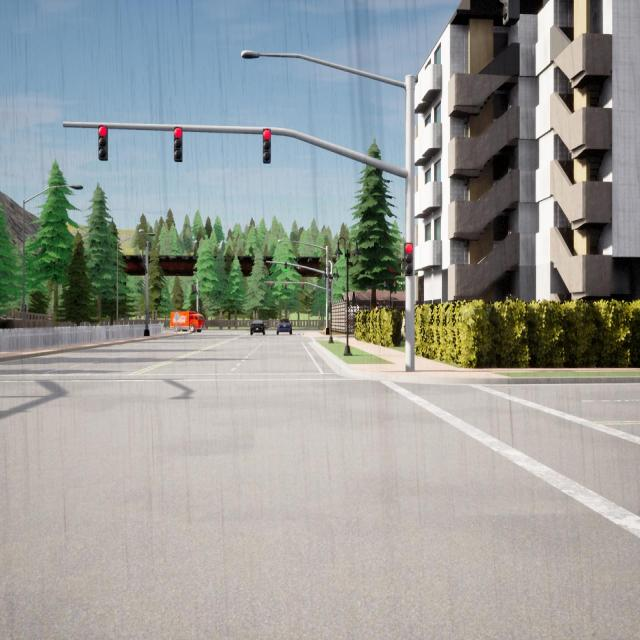Traffic_Signs: (174, 314, 179, 320)
Vehicle: (170, 310, 205, 333), (276, 318, 292, 334), (250, 320, 265, 336)
traffic_light: (98, 125, 108, 161), (173, 126, 183, 162), (404, 242, 413, 276), (263, 128, 271, 164), (284, 262, 288, 272), (270, 282, 272, 290), (302, 282, 304, 290), (284, 283, 286, 289)
